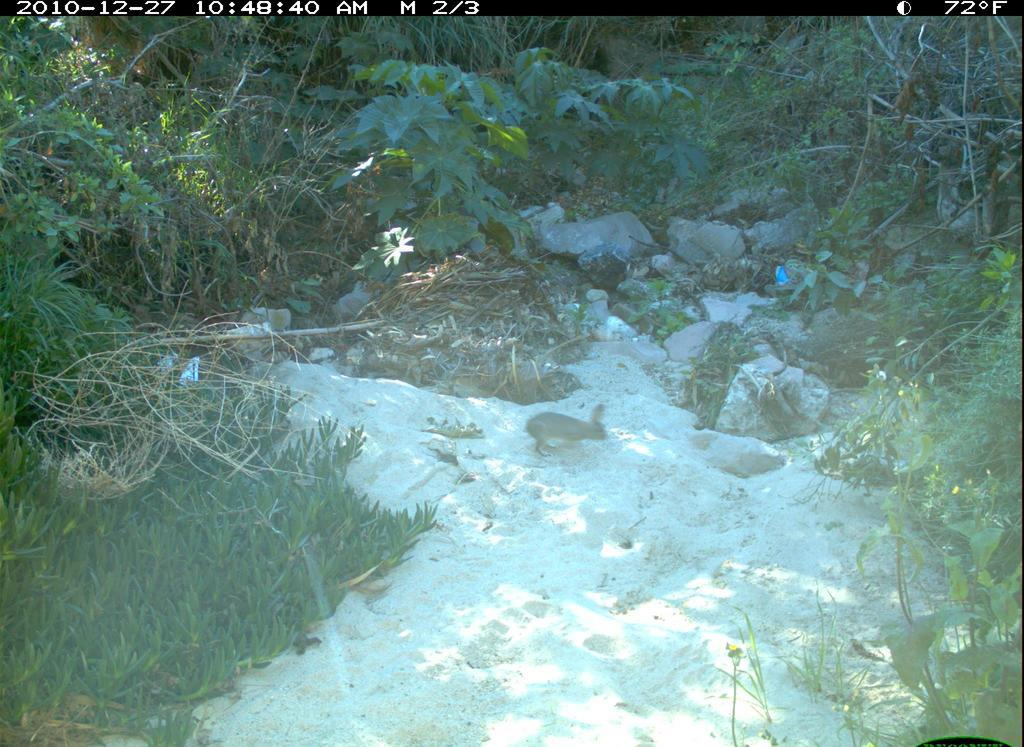rabbit: (521, 392, 615, 463)
